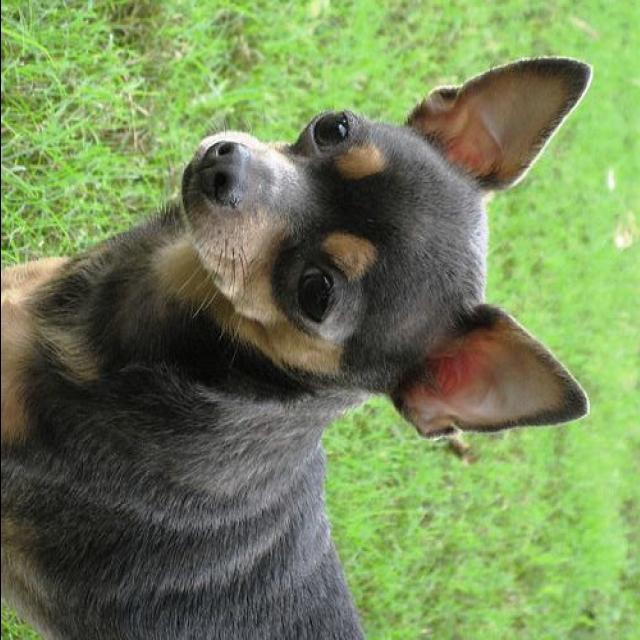chihuahua: (2, 57, 594, 640)
